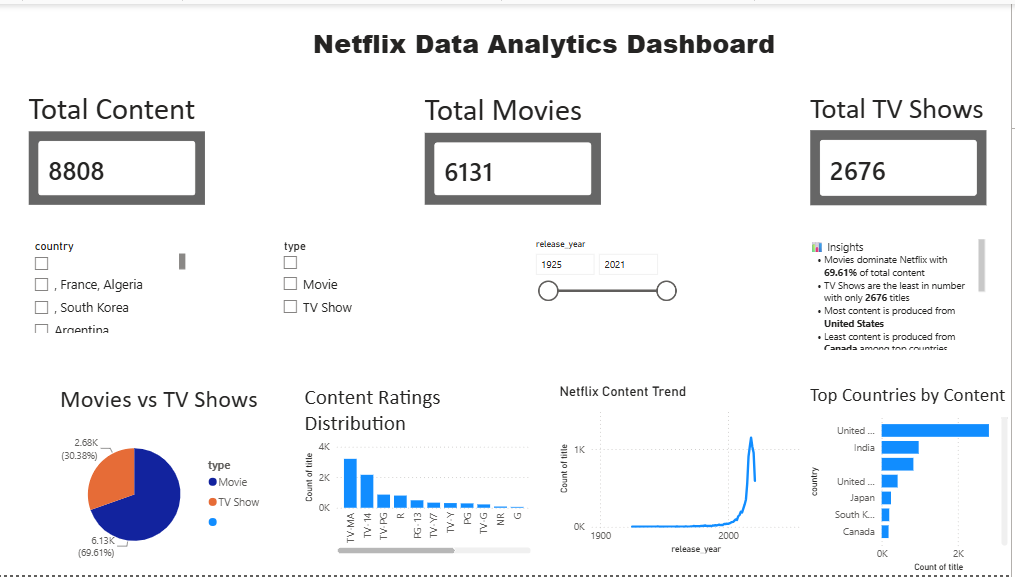

The dashboard page shown, as its layout file describes it:
{"tool":"powerbi","page":{"name":"Page 1","canvas":[1280,720],"ordinal":0},"visuals":[{"type":"pieChart","title":"Movies vs TV Shows","fields":{"Category":["netflix_titles.type"],"Y":["CountNonNull(netflix_titles.title)"]},"box":[75.6,478.1,270.2,241.9],"z":0},{"type":"clusteredBarChart","title":"Top Countries by Content","fields":{"Category":["netflix_titles.country"],"Y":["CountNonNull(netflix_titles.title)"]},"box":[1020.5,478.1,258.9,241.9],"z":1000},{"type":"lineChart","title":"Netflix Content Trend","fields":{"Category":["netflix_titles.release_year"],"Y":["CountNonNull(netflix_titles.title)"]},"box":[704.9,478.1,315.6,219.2],"z":2000},{"type":"slicer","fields":{"Values":["netflix_titles.type"]},"box":[349.6,291,291,149.3],"z":3000},{"type":"textbox","box":[0,20.8,1251,86.9],"z":4000},{"type":"clusteredColumnChart","title":"Content Ratings Distribution","fields":{"Category":["netflix_titles.rating"],"Y":["CountNonNull(netflix_titles.title)"]},"box":[383.6,478.1,294.8,219.2],"z":6000},{"type":"cardVisual","title":"Total TV Shows","fields":{"Data":["netflix_titles.TVShows_Total"]},"box":[1020.5,109.6,232.4,149.3],"z":7000},{"type":"cardVisual","title":"Total Content","fields":{"Data":["netflix_titles.Content_Total"]},"box":[35.9,107.7,232.4,151.2],"z":8000},{"type":"cardVisual","title":"Total Movies","fields":{"Data":["netflix_titles.Movies_Total"]},"box":[534.8,109.6,232.4,149.3],"z":9000},{"type":"slicer","fields":{"Values":["netflix_titles.country"]},"box":[35.9,291,207.9,128.5],"z":10000},{"type":"slicer","fields":{"Values":["netflix_titles.release_year"]},"box":[667.1,291,198.4,145.5],"z":11000},{"type":"textbox","box":[1020.5,291,230.6,149.3],"z":11001}]}

Visuals, with their boxes in screenshot pixels (x1, y1, x2, y2), scaled from the page's 1280x720 canvas onto the 1015x577 screenshot:
"Movies vs TV Shows" pieChart: BBox(60, 383, 274, 576)
"Top Countries by Content" clusteredBarChart: BBox(809, 383, 1014, 576)
"Netflix Content Trend" lineChart: BBox(559, 383, 809, 559)
slicer - netflix_titles.type: BBox(277, 233, 508, 353)
textbox: BBox(0, 17, 992, 86)
"Content Ratings Distribution" clusteredColumnChart: BBox(304, 383, 538, 559)
"Total TV Shows" cardVisual: BBox(809, 88, 994, 207)
"Total Content" cardVisual: BBox(28, 86, 213, 207)
"Total Movies" cardVisual: BBox(424, 88, 608, 207)
slicer - netflix_titles.country: BBox(28, 233, 193, 336)
slicer - netflix_titles.release_year: BBox(529, 233, 686, 350)
textbox: BBox(809, 233, 992, 353)
